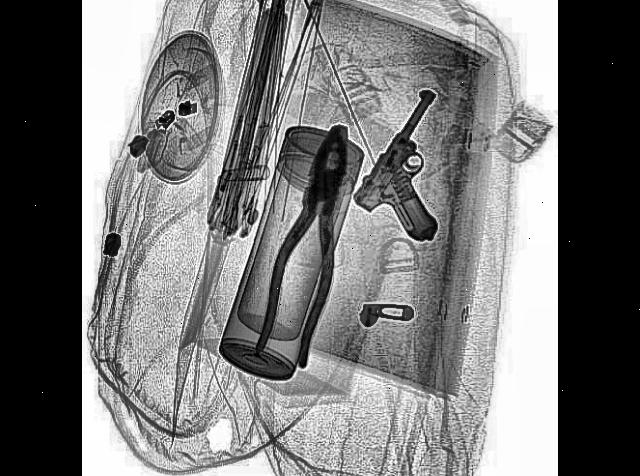Gun: (352, 80, 486, 278)
Pliers: (252, 110, 372, 388)
